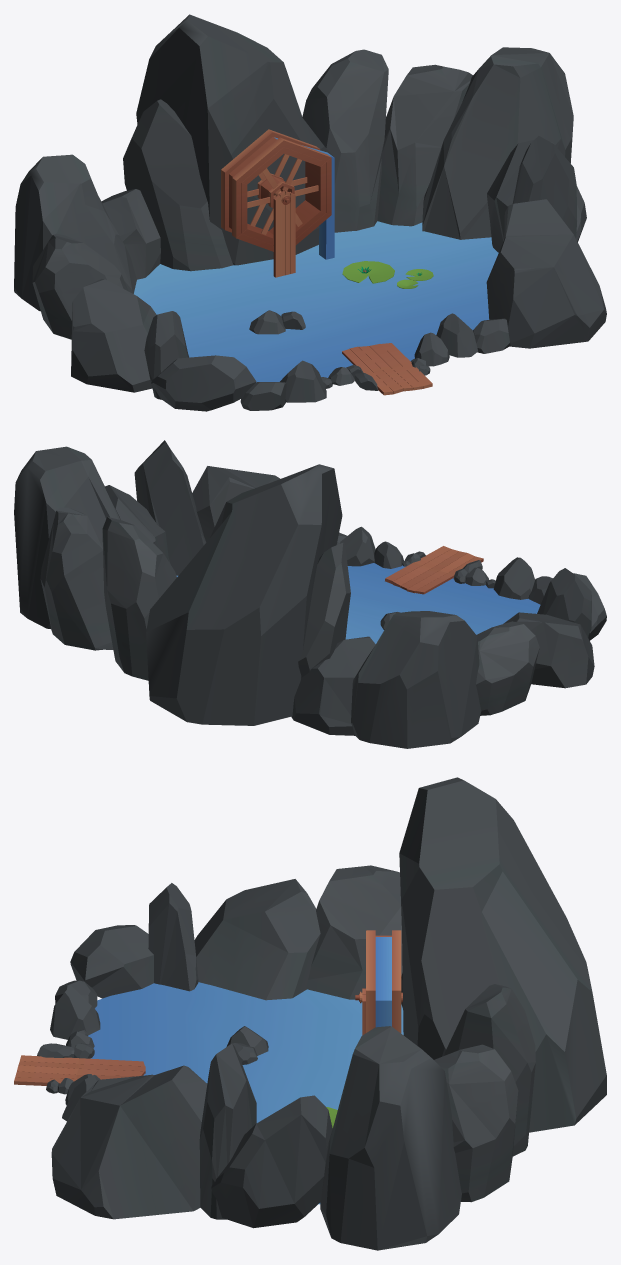
File: Lago.fbx
The picture shows the model from 3 angles, top to bottom: view 1: azimuth 30°, elevation 25°; view 2: azimuth 150°, elevation 25°; view 3: azimuth 270°, elevation 25°; orthographic projection. The views are drawn at different scales.
Visible parts, largest first — view 1: Lago; view 2: Lago; view 3: Lago.
Part boxes in pixels (x1,y1,x2,y2): Lago: [14, 14, 606, 411]; Lago: [14, 440, 606, 748]; Lago: [14, 777, 606, 1250].
Bounding box in the file's own units: 1599 × 700 × 1288.
1 material, 1 textured.
